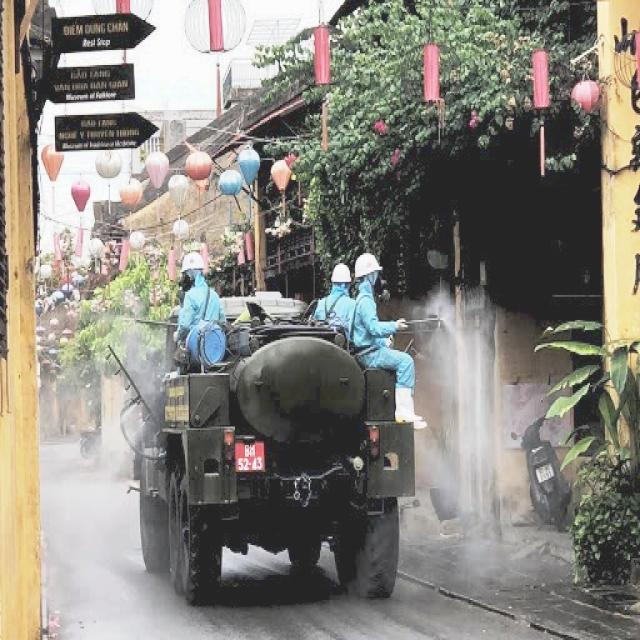license_plate: (236, 442, 267, 472)
